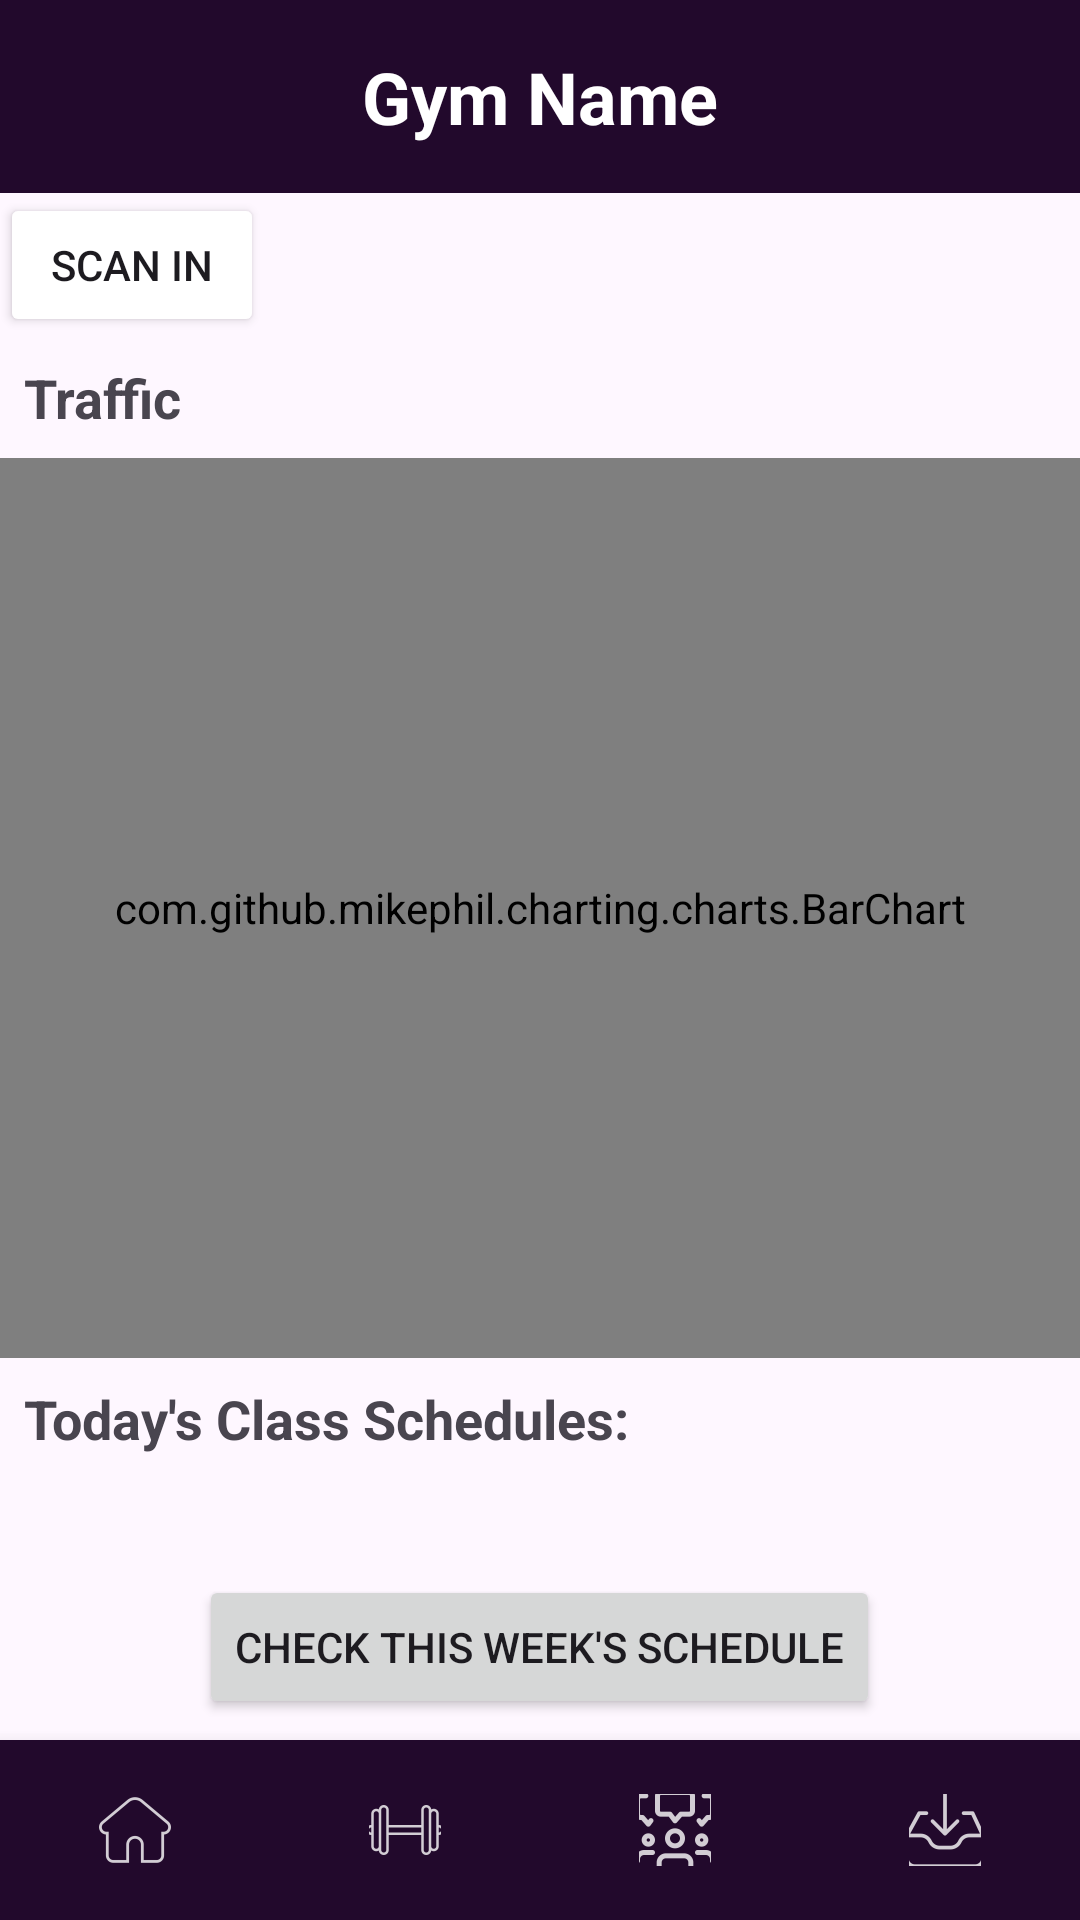

Locate icon controls on the screen. Image size 1080x1920, boxes as (x1, y1, x2, y2).
forum: (639, 1794, 711, 1866)
home: (99, 1797, 171, 1863)
inbox: (909, 1794, 981, 1866)
workout: (369, 1805, 441, 1855)
